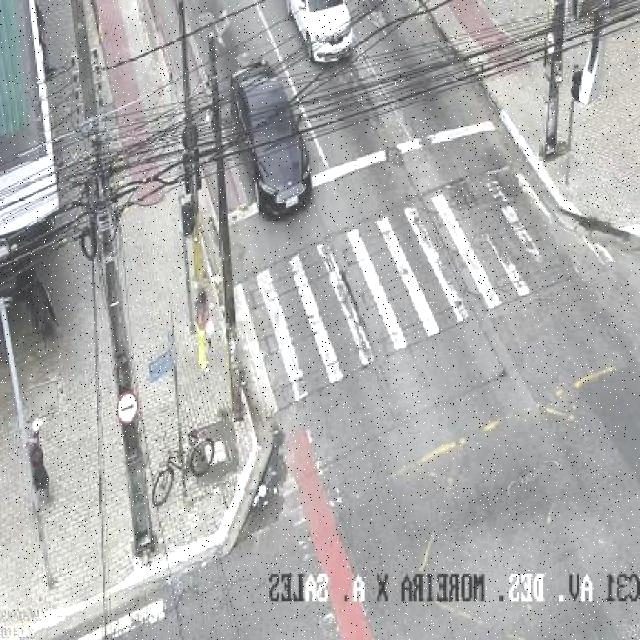Car: (230, 59, 315, 219), (285, 0, 356, 62)
Cycle: (150, 429, 216, 506)
